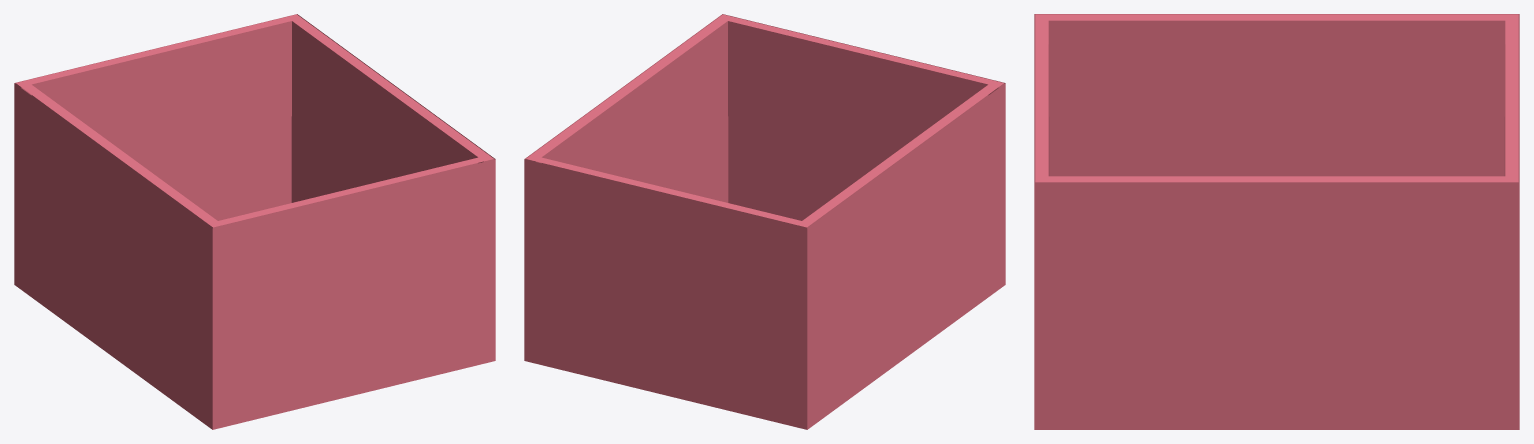
3 views of the same model, side by side, from view 1: azimuth 30°, elevation 25°; view 2: azimuth 150°, elevation 25°; view 3: azimuth 270°, elevation 25° (orthographic). The views are drawn at different scales.
Parts seen in each view (by area): view 1: Cubo; view 2: Cubo; view 3: Cubo.
Part boxes in pixels (bbox=[...]): Cubo: bbox=[14, 14, 495, 429]; Cubo: bbox=[524, 14, 1005, 429]; Cubo: bbox=[1034, 14, 1519, 429].
Bounding box in the file's own units: 205 × 140 × 249.
